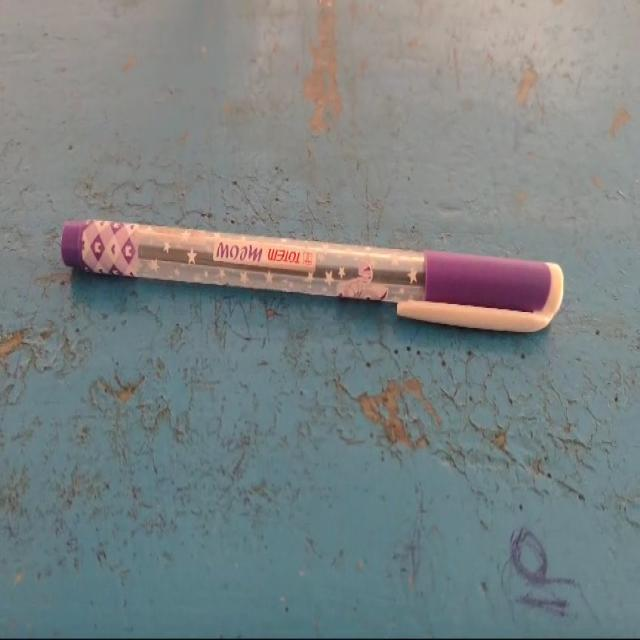pen: (38, 130, 604, 439)
